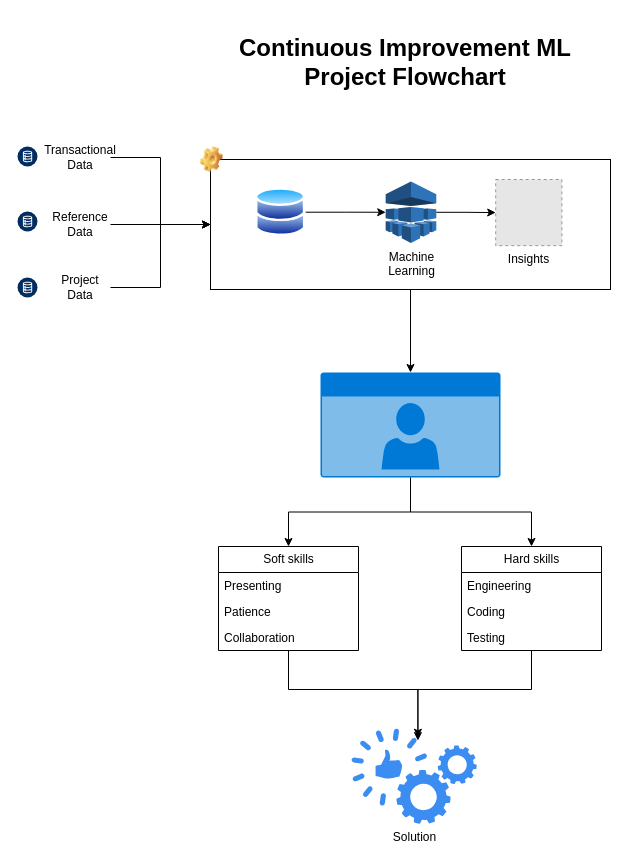
Image size: 628x862. Some labels were removed from this diagram. Grey dashed boxes stand in for pictures. The centre of each missing label's shape, as x and y in pixels:
"Organisation Data" belongs at point 280,211.
"Profile" belongs at point 410,424.
